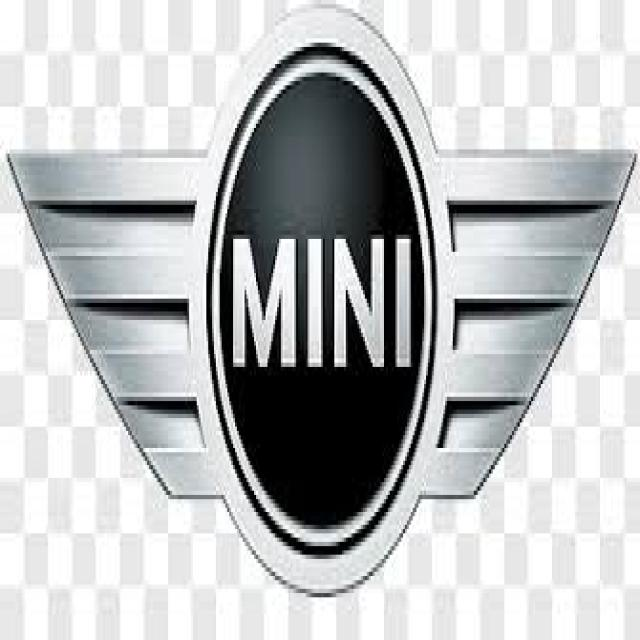mini: (8, 5, 637, 589)
